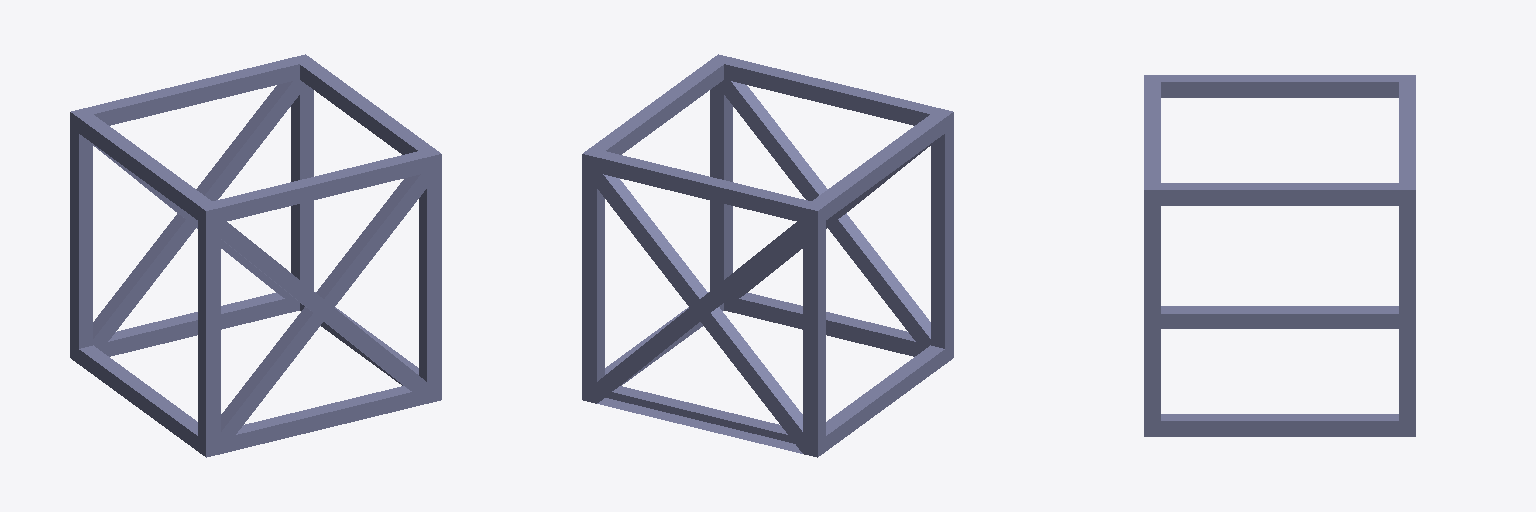
3 renders of one model, left to right at view 1: azimuth 30°, elevation 25°; view 2: azimuth 150°, elevation 25°; view 3: azimuth 270°, elevation 25°, orthographic.
Parts seen in each view (by area): view 1: cube; view 2: cube; view 3: cube.
Part boxes in pixels (left/top/right/bottom): cube: left=70, top=54, right=441, bottom=457; cube: left=582, top=54, right=953, bottom=457; cube: left=1144, top=75, right=1415, bottom=436.
Size of the model in its own units: 1 by 1 by 1.
Materials: 1 (1 with a texture image).